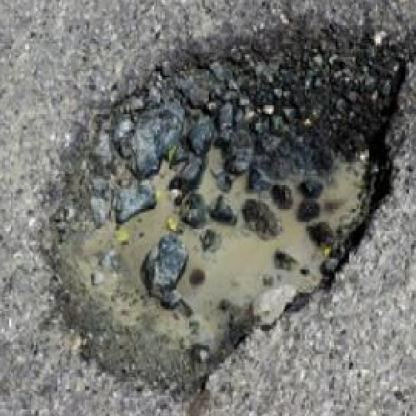pothole: (37, 20, 414, 405)
